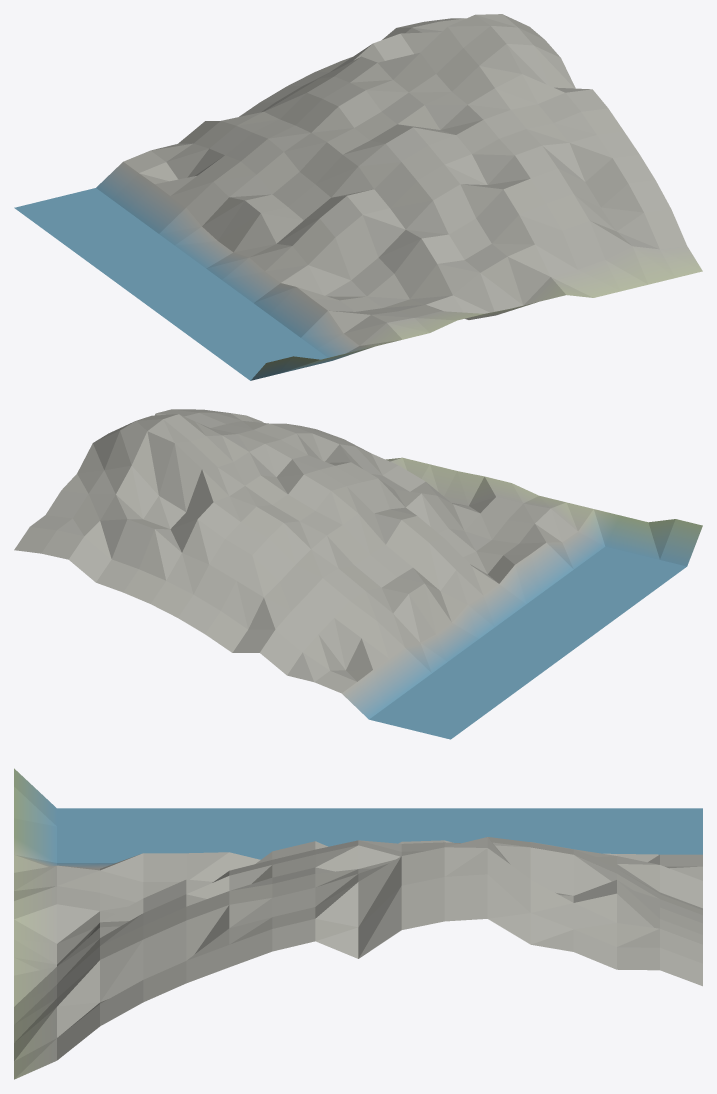
3 renders of one model, top to bottom at view 1: azimuth 30°, elevation 25°; view 2: azimuth 150°, elevation 25°; view 3: azimuth 270°, elevation 25°, orthographic. The views are drawn at different scales.
Size of the model in its own units: 32 by 11.06 by 32.
